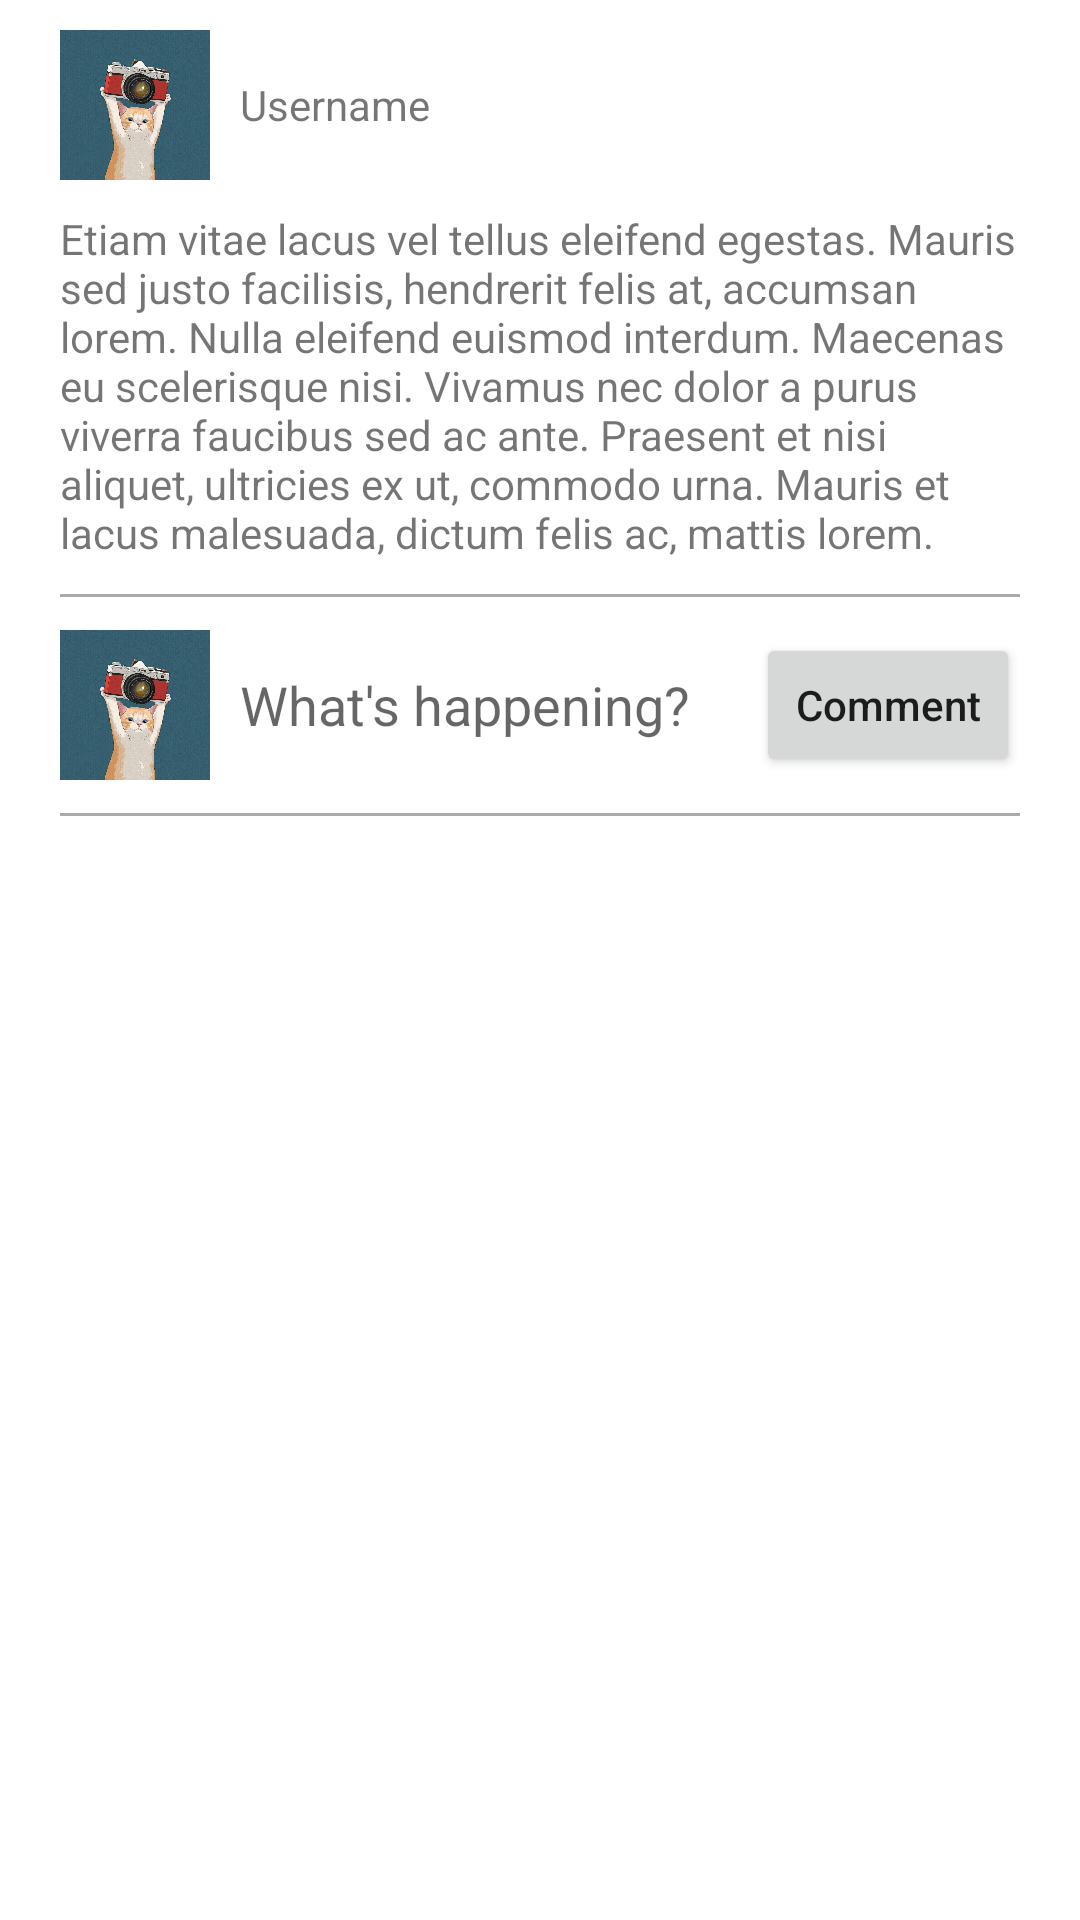

Named icons in this screenshot (1080px×1920px) and their centers, (x=x, y=y):
cat user: (x=135, y=105), (x=135, y=705)
